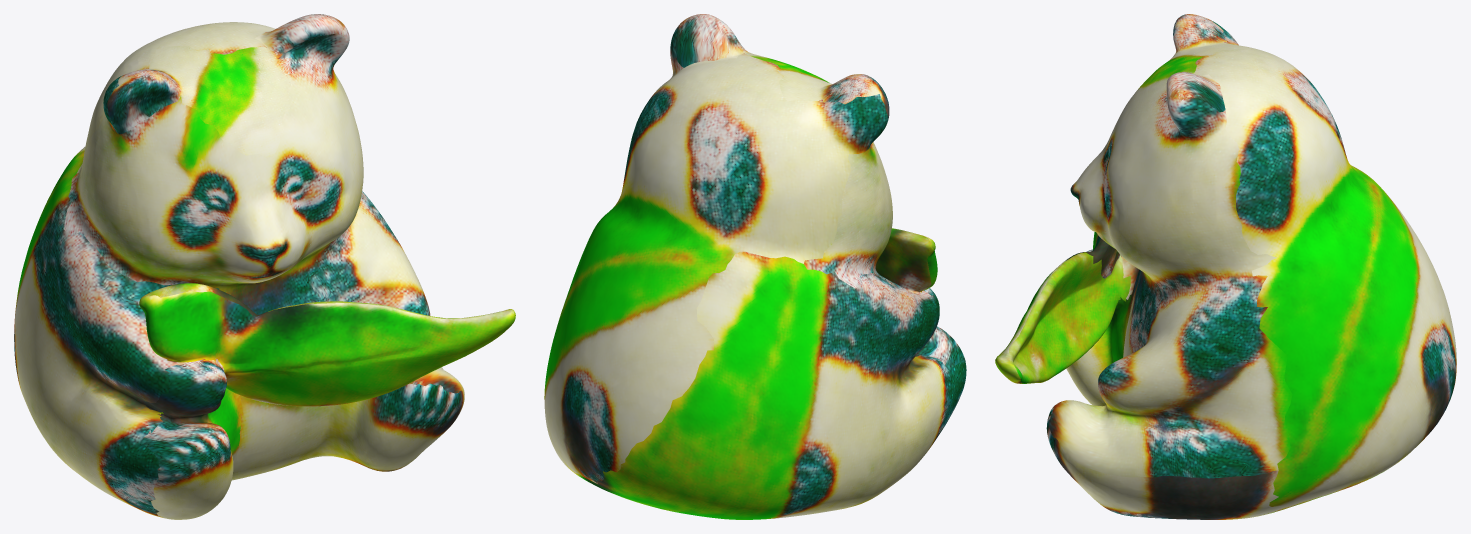
File: paint-it.glb
The picture shows the model from 3 angles, left to right: view 1: azimuth 30°, elevation 25°; view 2: azimuth 150°, elevation 25°; view 3: azimuth 270°, elevation 25°; orthographic projection. The views are drawn at different scales.
Visible parts, largest first — view 1: mesh; view 2: mesh; view 3: mesh.
Part boxes in pixels (bbox=[...]): mesh: bbox=[14, 14, 515, 519]; mesh: bbox=[544, 14, 966, 519]; mesh: bbox=[995, 14, 1456, 519].
Size of the model in its own units: 1.61 by 2 by 1.97.
1 material, 1 textured.
